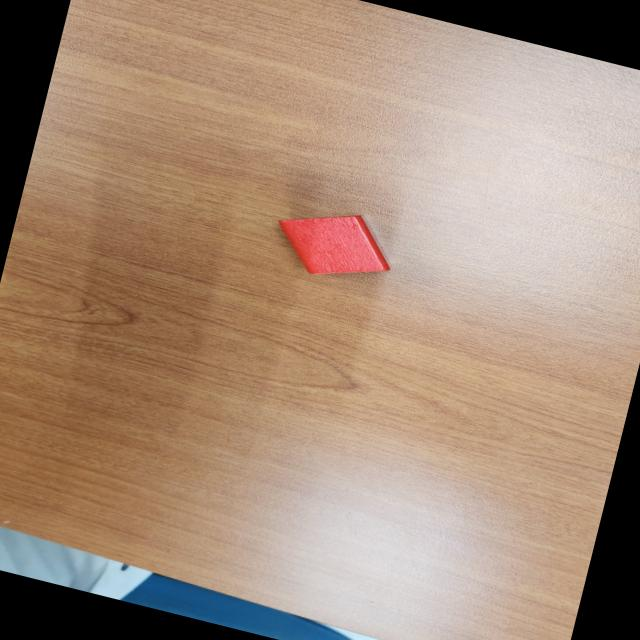red: (267, 197, 402, 295)
